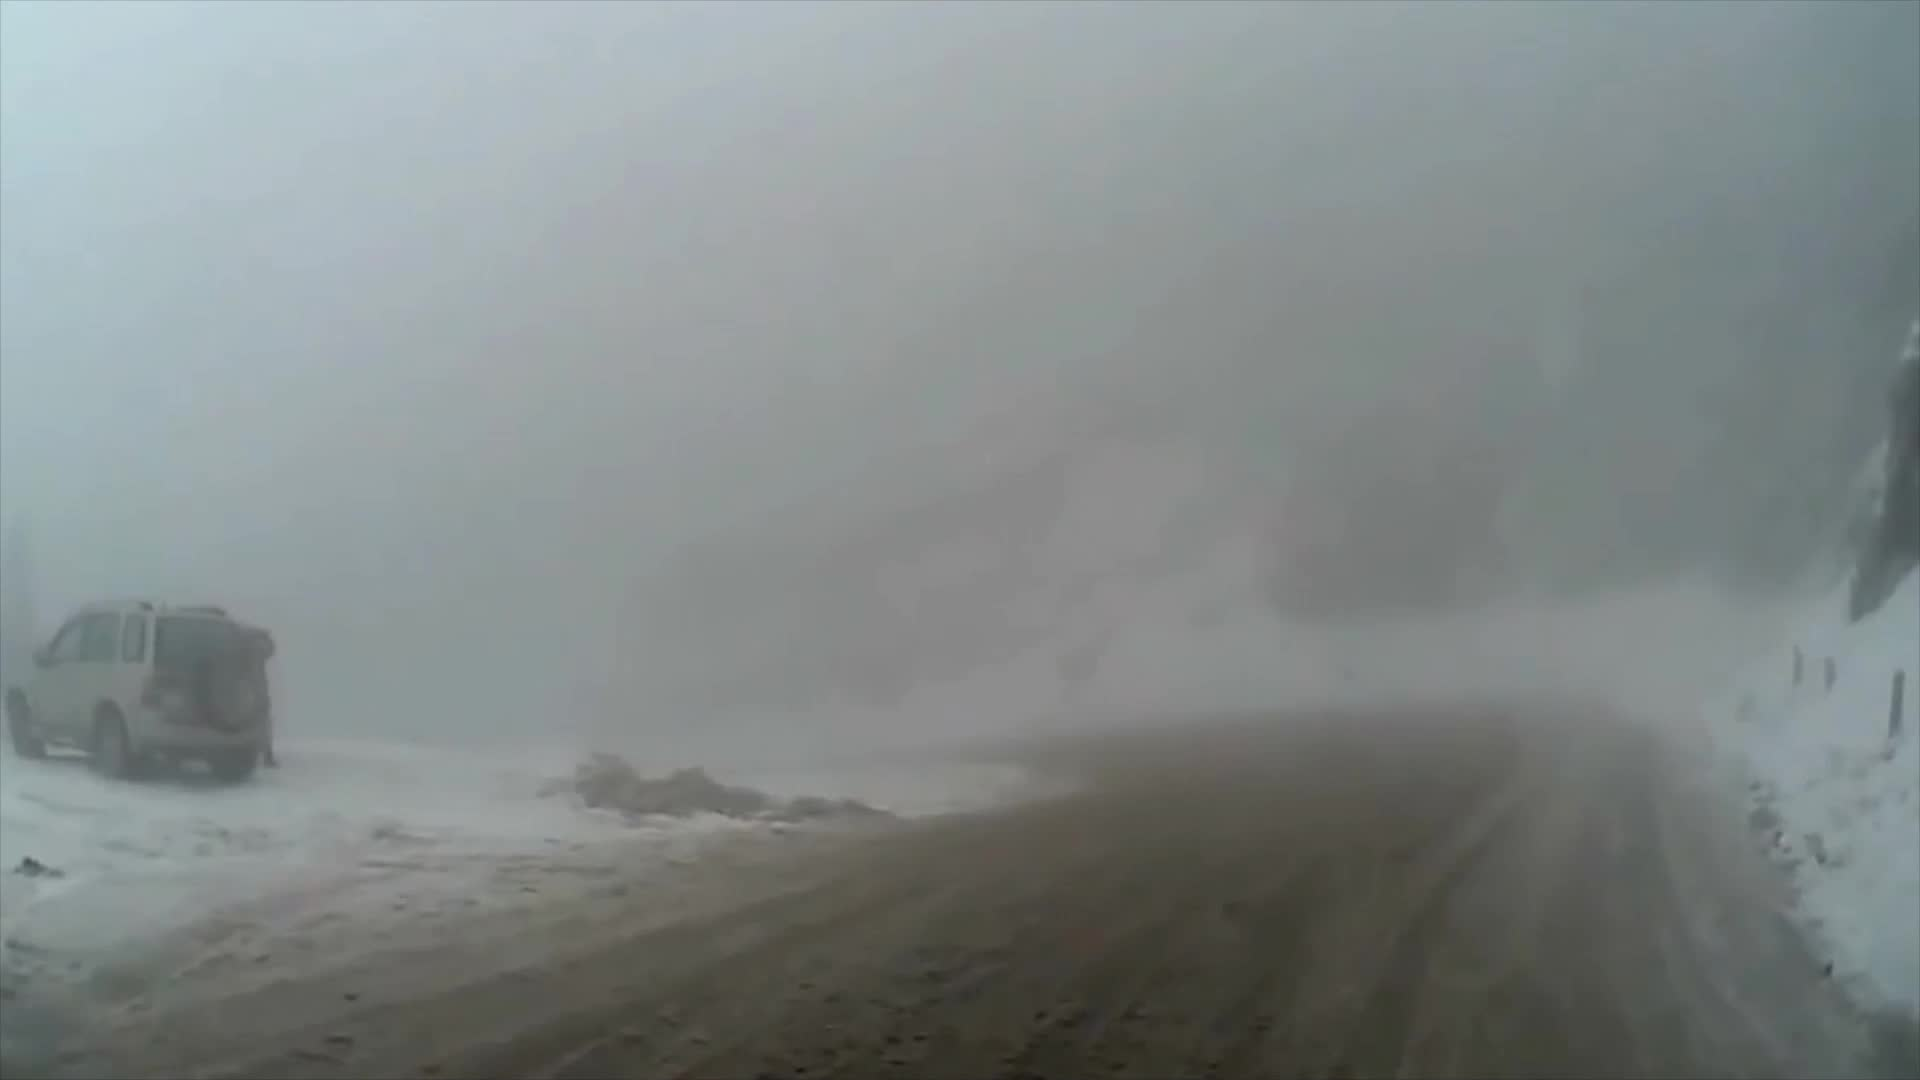vehicle: (3, 596, 266, 785)
